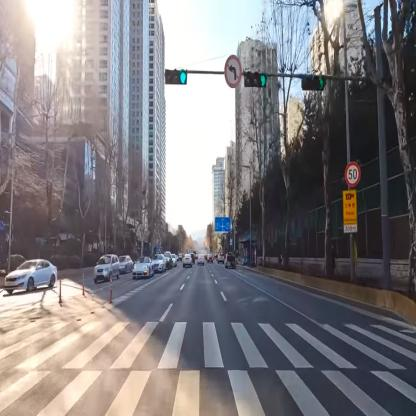Green: (165, 69, 187, 84), (246, 74, 265, 89)
